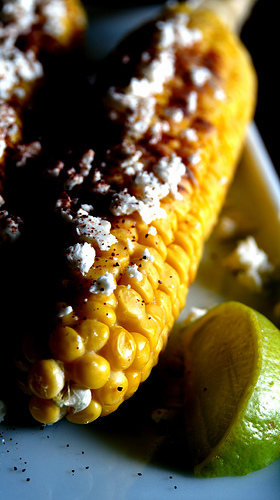corn: (21, 13, 253, 426)
